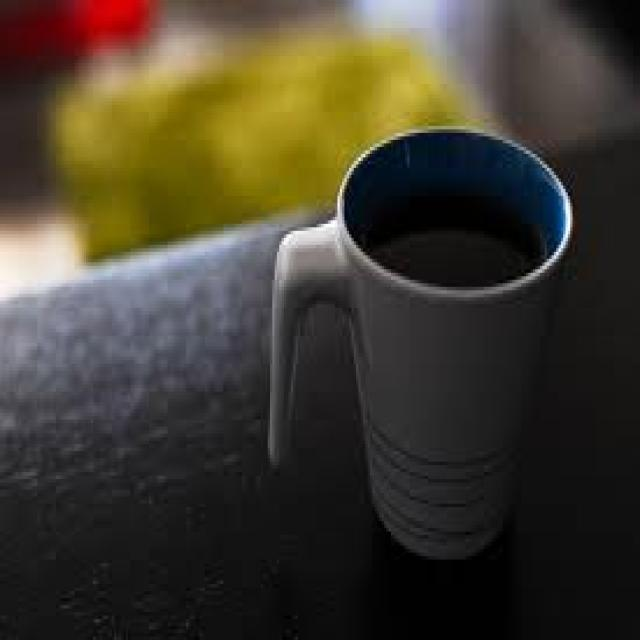taza: (245, 118, 596, 583)
